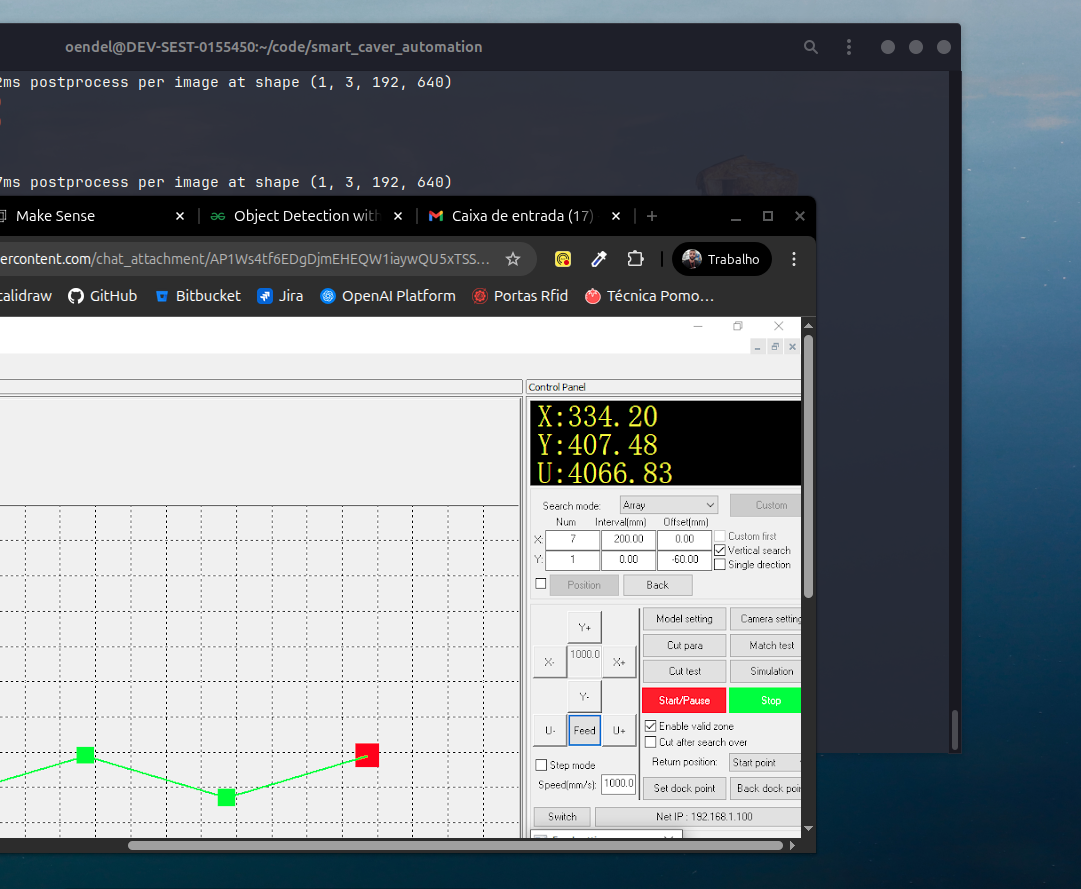start: (641, 686, 727, 714)
timer: (657, 514, 712, 570)
